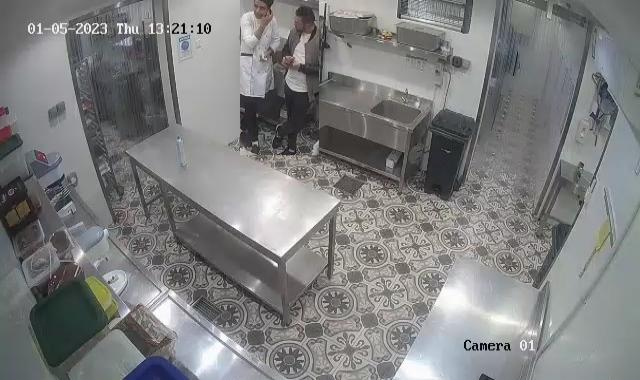no_hairnet: (296, 1, 317, 31)
